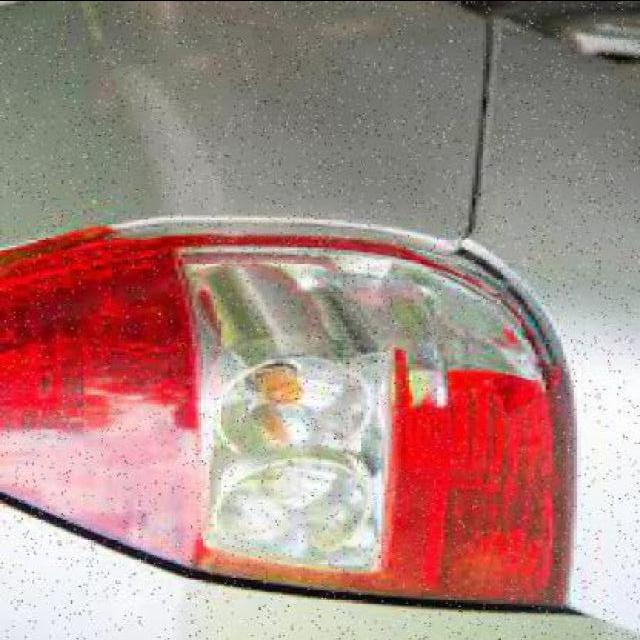Taillight-Damage: (0, 183, 603, 615)
